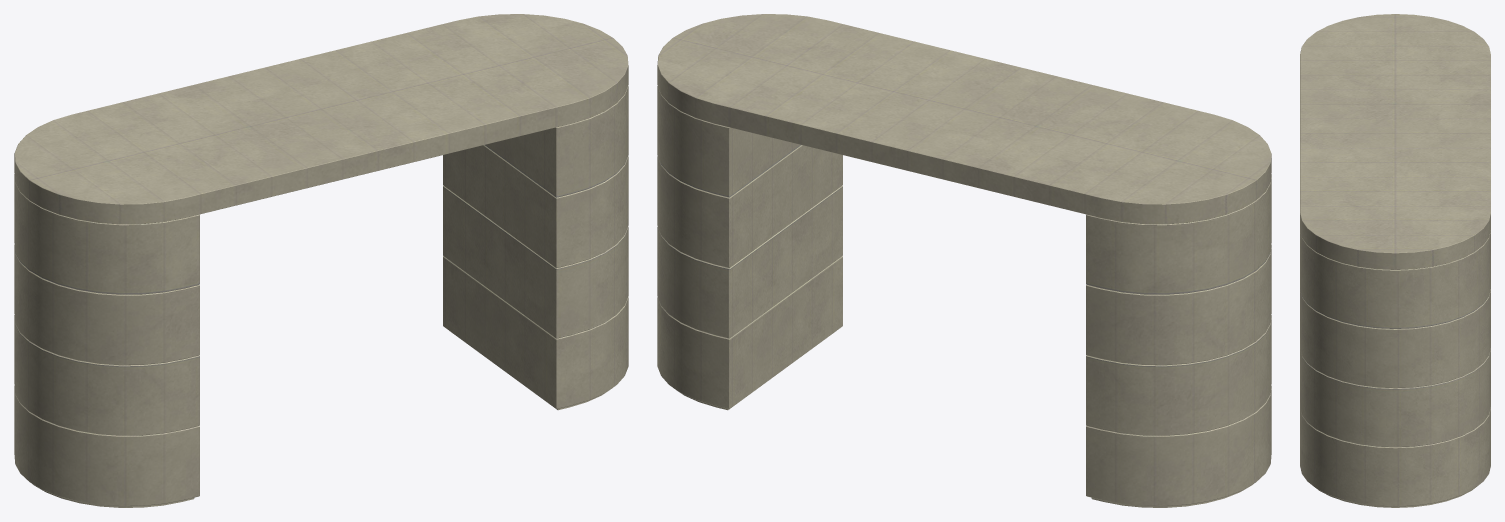
3 views of the same model, side by side, from view 1: azimuth 30°, elevation 25°; view 2: azimuth 150°, elevation 25°; view 3: azimuth 270°, elevation 25° (orthographic). The views are drawn at different scales.
Parts seen in each view (by area): view 1: Table_V_p.001_0; view 2: Table_V_p.001_0; view 3: Table_V_p.001_0.
Part boxes in pixels (x1,y1,x2,y2): Table_V_p.001_0: (14,14,628,507); Table_V_p.001_0: (657,14,1271,507); Table_V_p.001_0: (1300,14,1490,507).
Bounding box in the file's own units: 1.5 × 0.75 × 0.506.
Materials: 1 (1 with a texture image).
